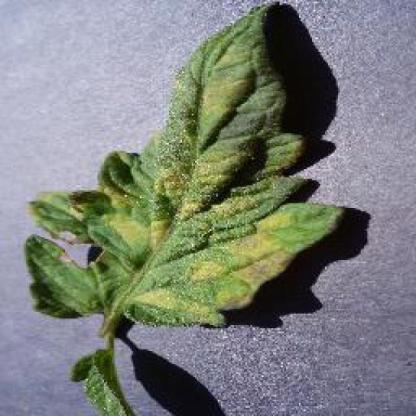Tomato_Leaf_Mold: (25, 3, 340, 326)
